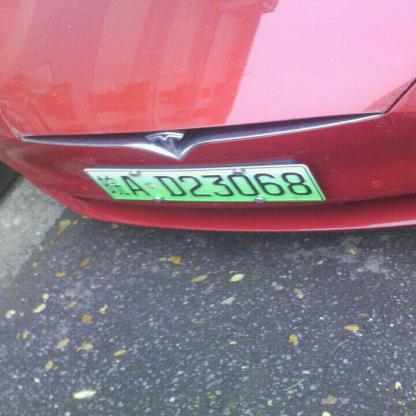lp: (85, 164, 323, 200)
